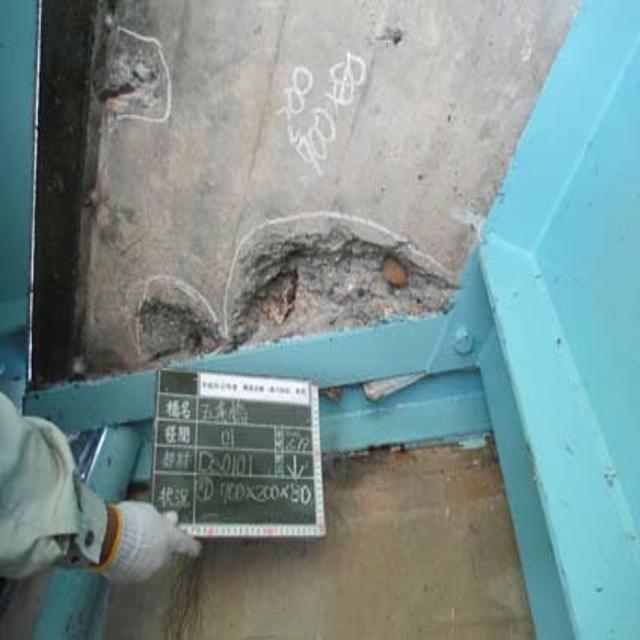spalling: (121, 210, 470, 337), (97, 25, 196, 138)
